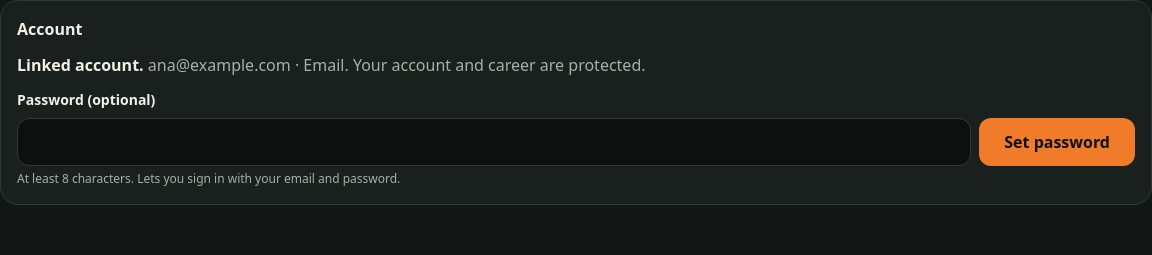
it: Account card › offers the password, not linking, to an account linked by email, and clears the field
Expected: the text "Linked account." is shown, [17, 54, 144, 76]
Type "a-good-password" into the password field labelled "Password (optional)".
click(494, 142); type("a-good-password")  # box [17, 118, 971, 166]
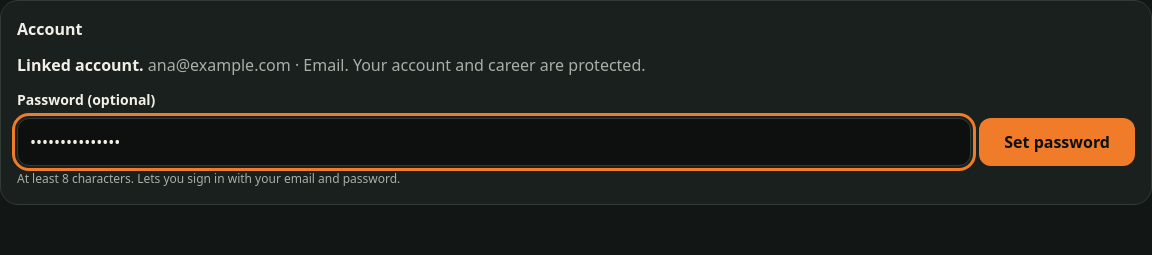
Click the button "Set password".
click(1057, 142)  # box [979, 118, 1135, 166]
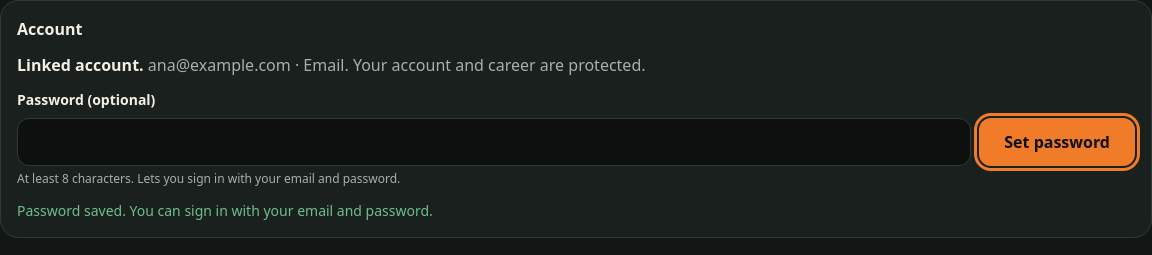
Expected: the password field labelled "Password (optional)" is empty, [17, 118, 971, 166]
Expected: the message shows "Password saved", [17, 201, 433, 220]
